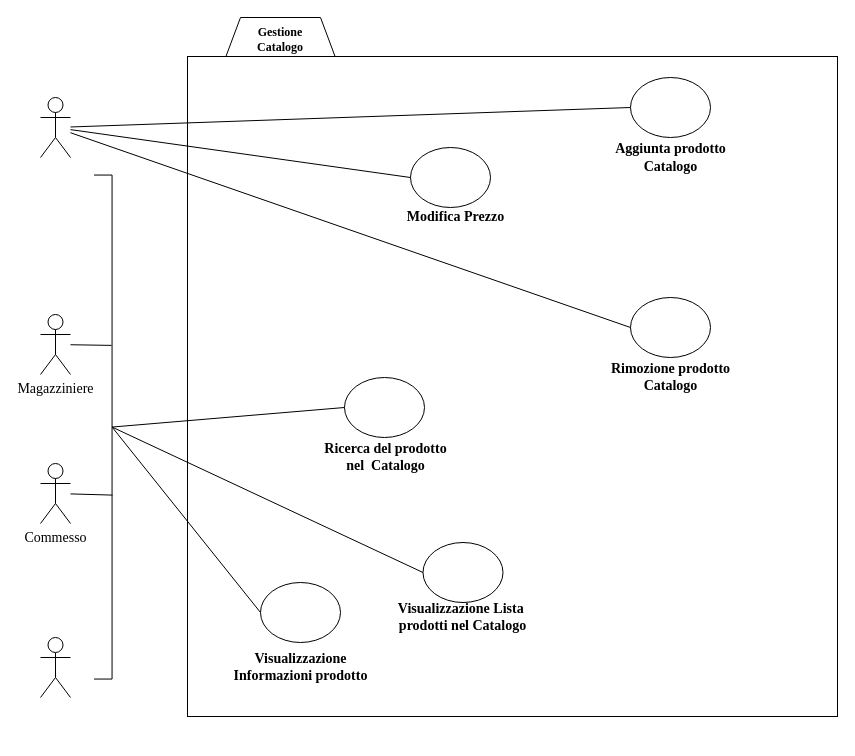
This 855x756 diagram has some shape labels left out. Each missing label, with the box of its shape:
Direttore Generale: (40, 636, 70, 698)
Responsabile Vendite: (40, 96, 70, 158)
